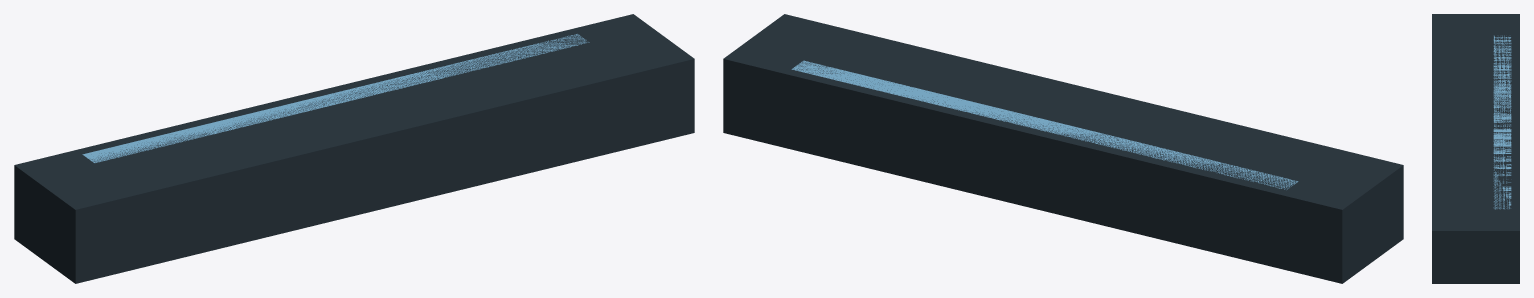
3 views of the same model, side by side, from view 1: azimuth 30°, elevation 25°; view 2: azimuth 150°, elevation 25°; view 3: azimuth 270°, elevation 25° (orthographic). The views are drawn at different scales.
Parts seen in each view (by area): view 1: strip-body, desk-rail; view 2: strip-body, desk-rail; view 3: strip-body, desk-rail.
Boxes of the visible parts, x1,y1,x2,y2 form: strip-body: (14, 14, 694, 283); desk-rail: (82, 34, 589, 162); strip-body: (723, 14, 1403, 283); desk-rail: (791, 60, 1298, 189); strip-body: (1432, 14, 1519, 283); desk-rail: (1493, 35, 1511, 209).
Bounding box in the file's own units: 0.35 × 0.04 × 0.06.
